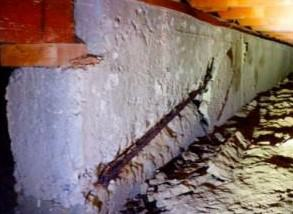Exposed reinforcement: (93, 76, 211, 186)
